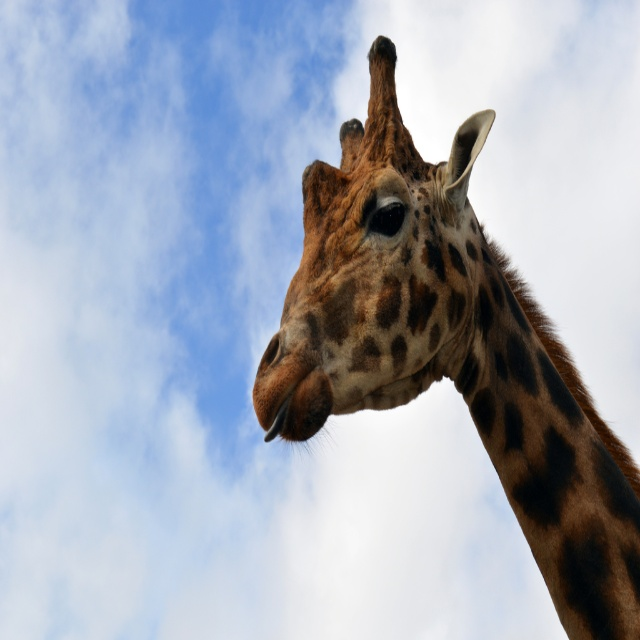Giraffe: (256, 32, 640, 639)
